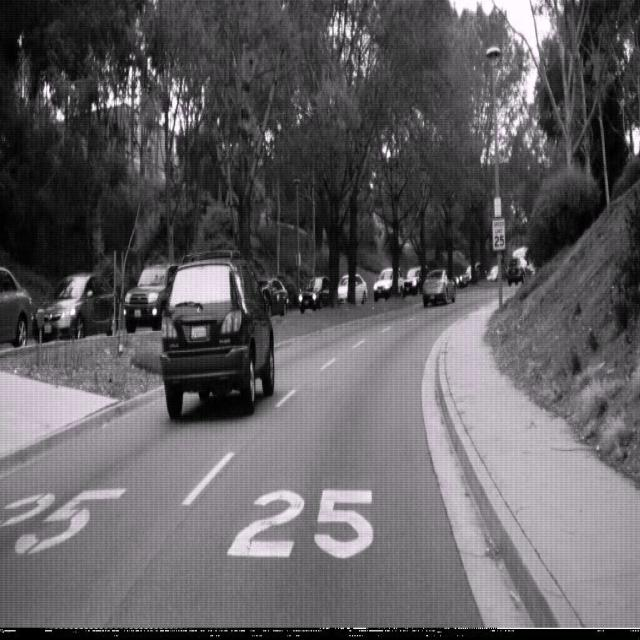speedLimit25: (491, 216, 506, 251)
